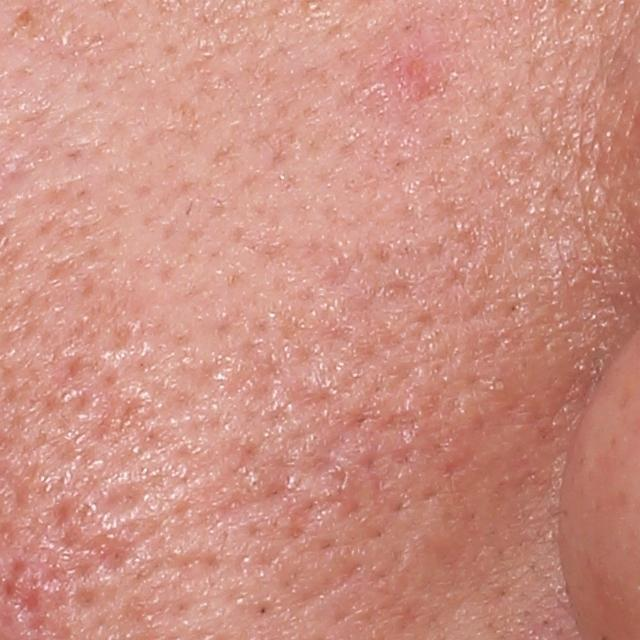atrophic_scar: (57, 522, 128, 575), (86, 480, 142, 516)
